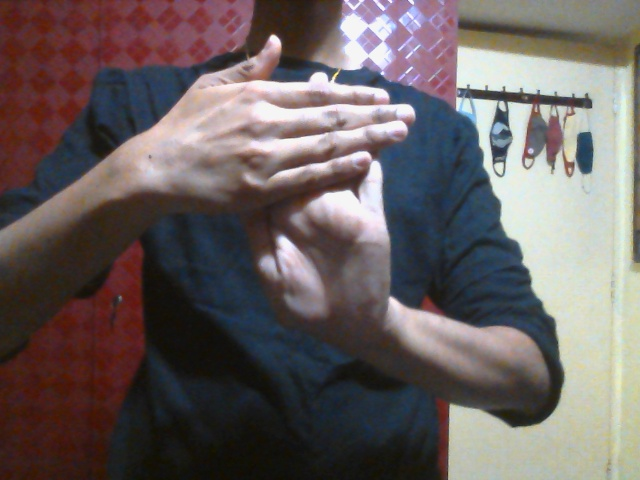H: (164, 32, 415, 347)
